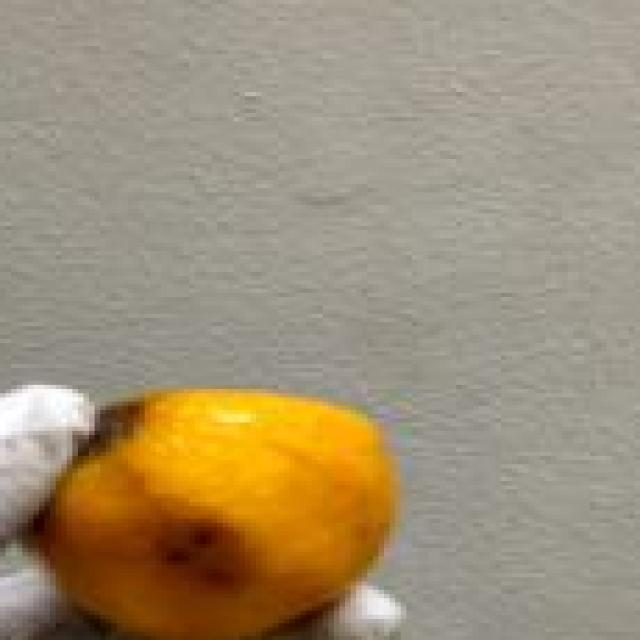Bad_Orange-0-1 day: (22, 389, 401, 640)
